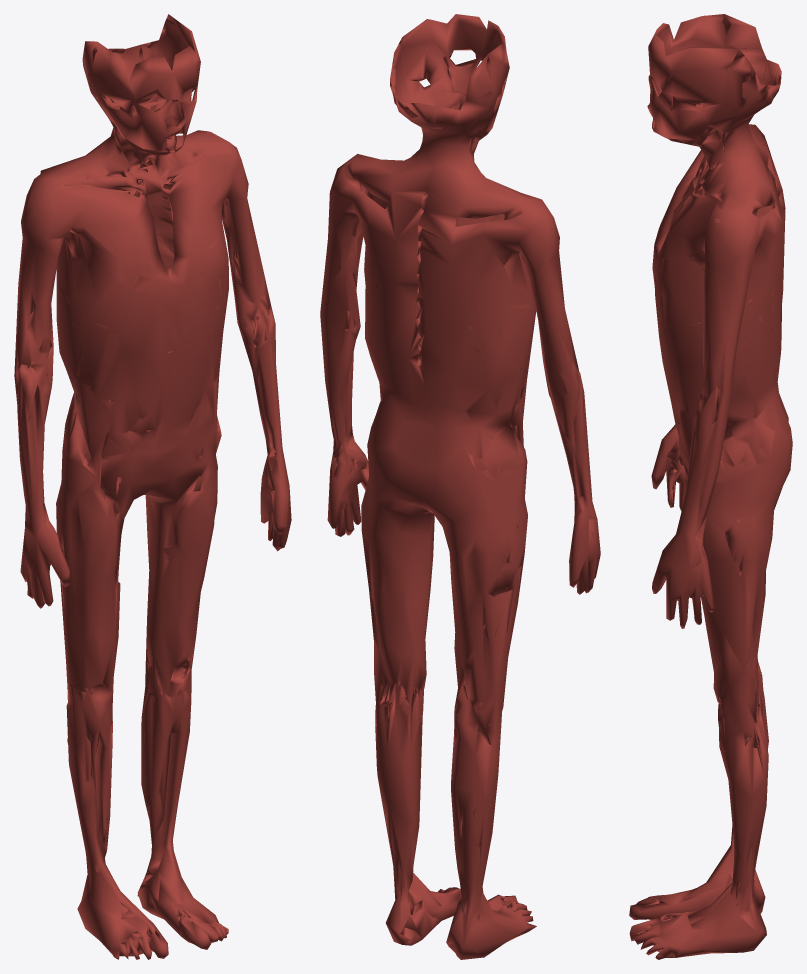
Rendered from pediatric_child_10y_male.muscular.LOD3.glb.
3 renders of one model, left to right at view 1: azimuth 30°, elevation 25°; view 2: azimuth 150°, elevation 25°; view 3: azimuth 270°, elevation 25°, orthographic.
Visible parts, largest first — view 1: PEDIATRIC.CHILD_10Y.MALE.MUSCULAR.MUSCLE; view 2: PEDIATRIC.CHILD_10Y.MALE.MUSCULAR.MUSCLE; view 3: PEDIATRIC.CHILD_10Y.MALE.MUSCULAR.MUSCLE.
Boxes of the visible parts, box(x1,y1,x2,y2) form: PEDIATRIC.CHILD_10Y.MALE.MUSCULAR.MUSCLE: box(14, 14, 291, 959); PEDIATRIC.CHILD_10Y.MALE.MUSCULAR.MUSCLE: box(320, 14, 600, 959); PEDIATRIC.CHILD_10Y.MALE.MUSCULAR.MUSCLE: box(629, 14, 792, 959).
Bounding box in the file's own units: 0.4041 × 1.35 × 0.2213.
